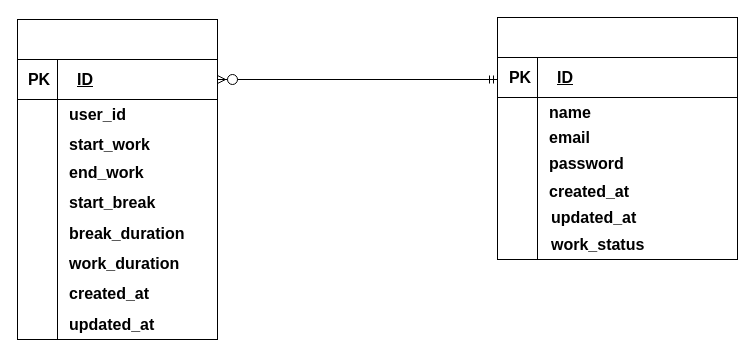
The diagram is 755 pixels wide and 357 high, and some of its shapes have lost their labels. The shapes that lost their labels are listed below. From the top down, each one's box as (x1, y1, x2, y2) in pixels, then its label:
(16, 18, 218, 60): work_times
(496, 16, 738, 58): users
